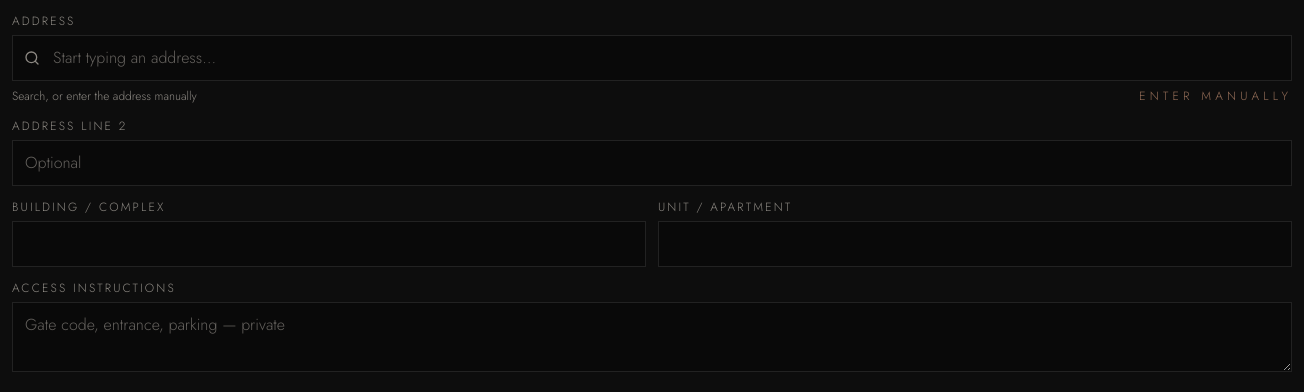
Scenario: AddressAutocomplete › selects a suggestion, extracts the structured address and marks it verified
Type "10 Main" into the dropdown. click: (652, 58)
box: [12, 35, 1292, 81]
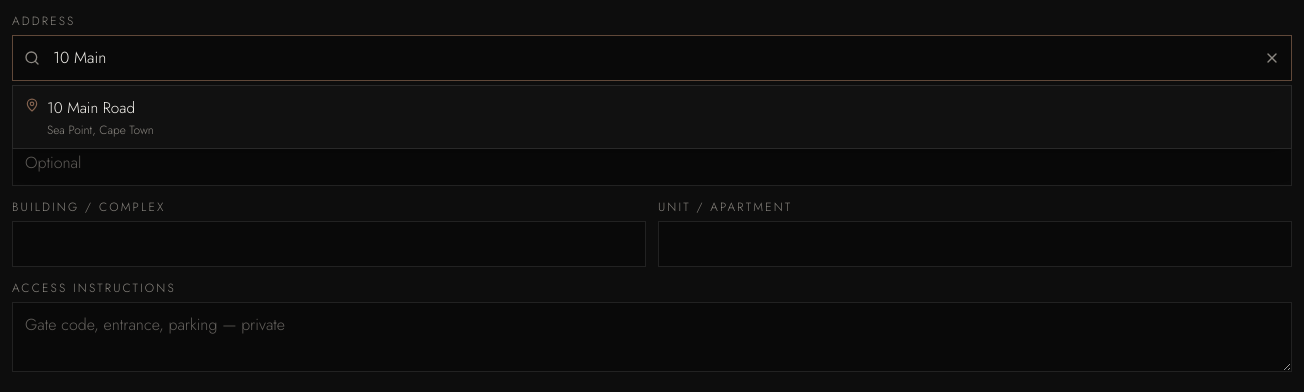
Click the option "10 Main Road Sea Point, Cape Town". click: (89, 118)
box: [25, 97, 154, 138]
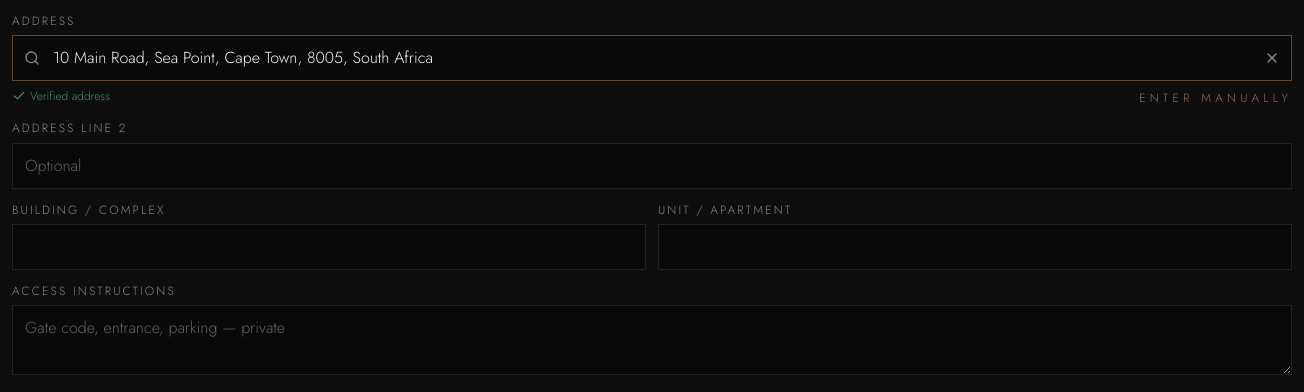
Expected: the text "Verified address" is shown, [12, 87, 110, 105]
